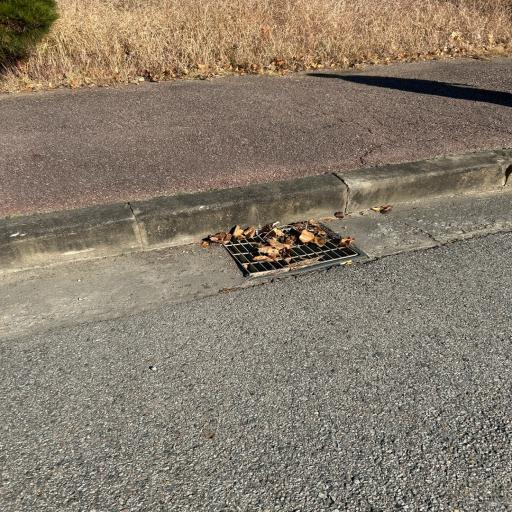debris: (220, 223, 328, 265)
drain: (220, 222, 358, 274)
